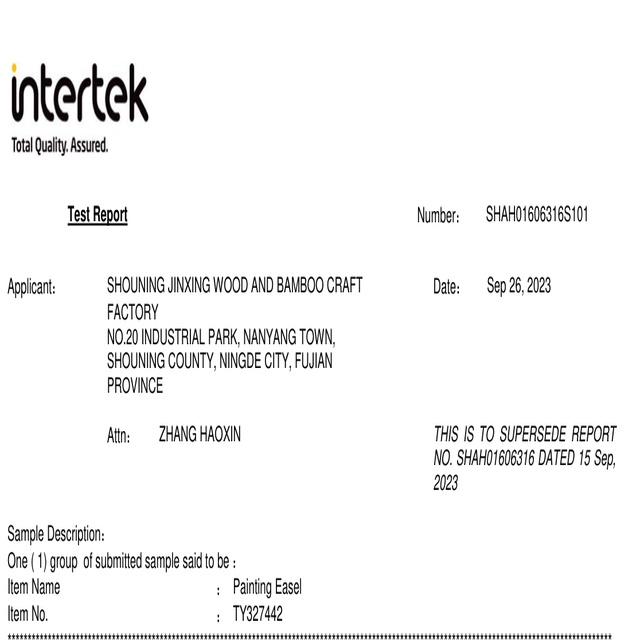intertek: (2, 58, 155, 130)
